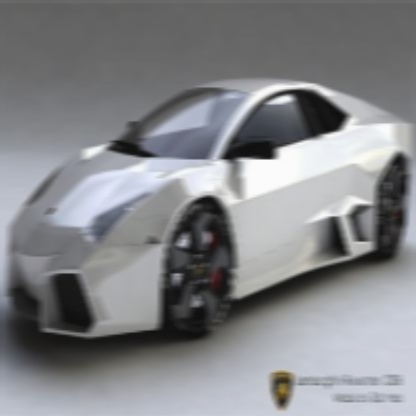Vehicle: (6, 78, 413, 339)
